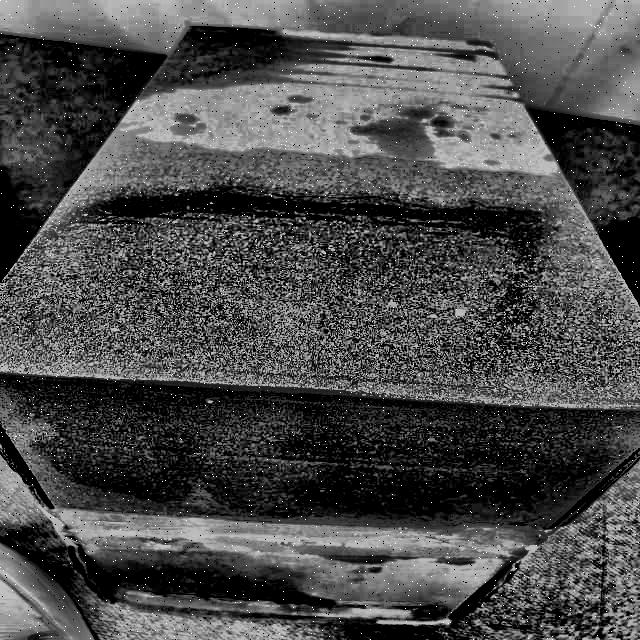box: (0, 15, 639, 632)
wet: (0, 159, 640, 516), (134, 27, 361, 92)
